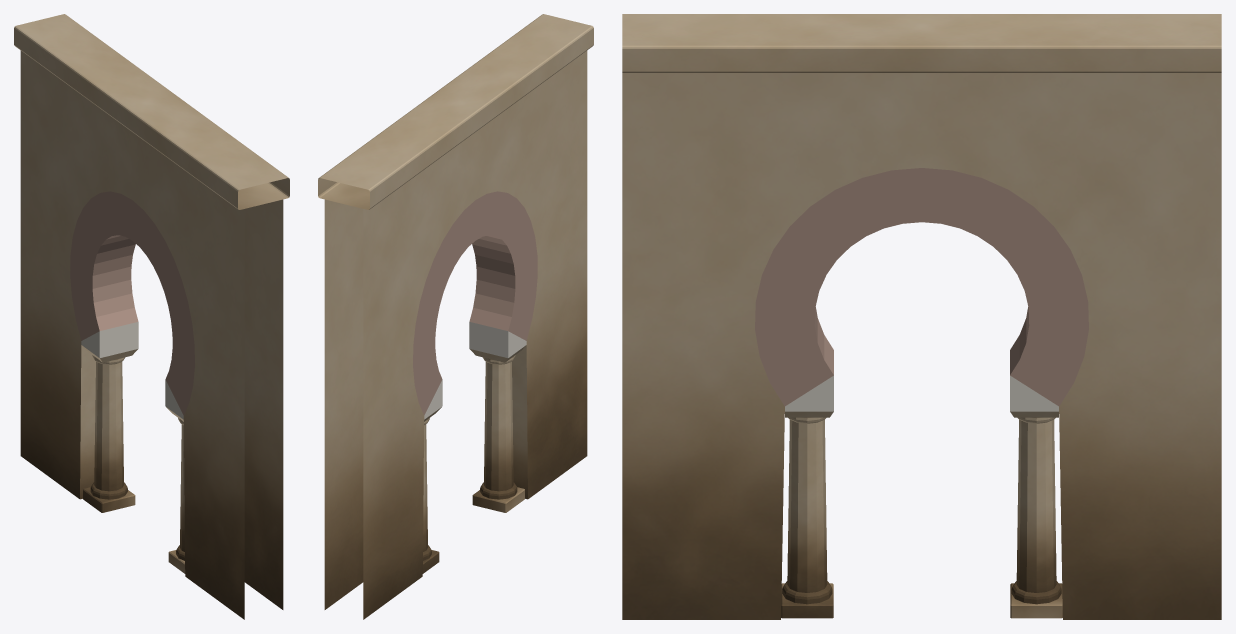
File: ArchKeyholeB01.fbx
The picture shows the model from 3 angles, left to right: view 1: azimuth 30°, elevation 25°; view 2: azimuth 150°, elevation 25°; view 3: azimuth 270°, elevation 25°; orthographic projection. The views are drawn at different scales.
Visible parts, largest first — view 1: ArchKeyholeB01; view 2: ArchKeyholeB01; view 3: ArchKeyholeB01.
Boxes of the visible parts, x1=… form: ArchKeyholeB01: x1=14, y1=14, x2=289, y2=619; ArchKeyholeB01: x1=318, y1=14, x2=593, y2=619; ArchKeyholeB01: x1=622, y1=14, x2=1221, y2=619.
Bounding box in the file's own units: 0.8128 × 6.48 × 6.1.
